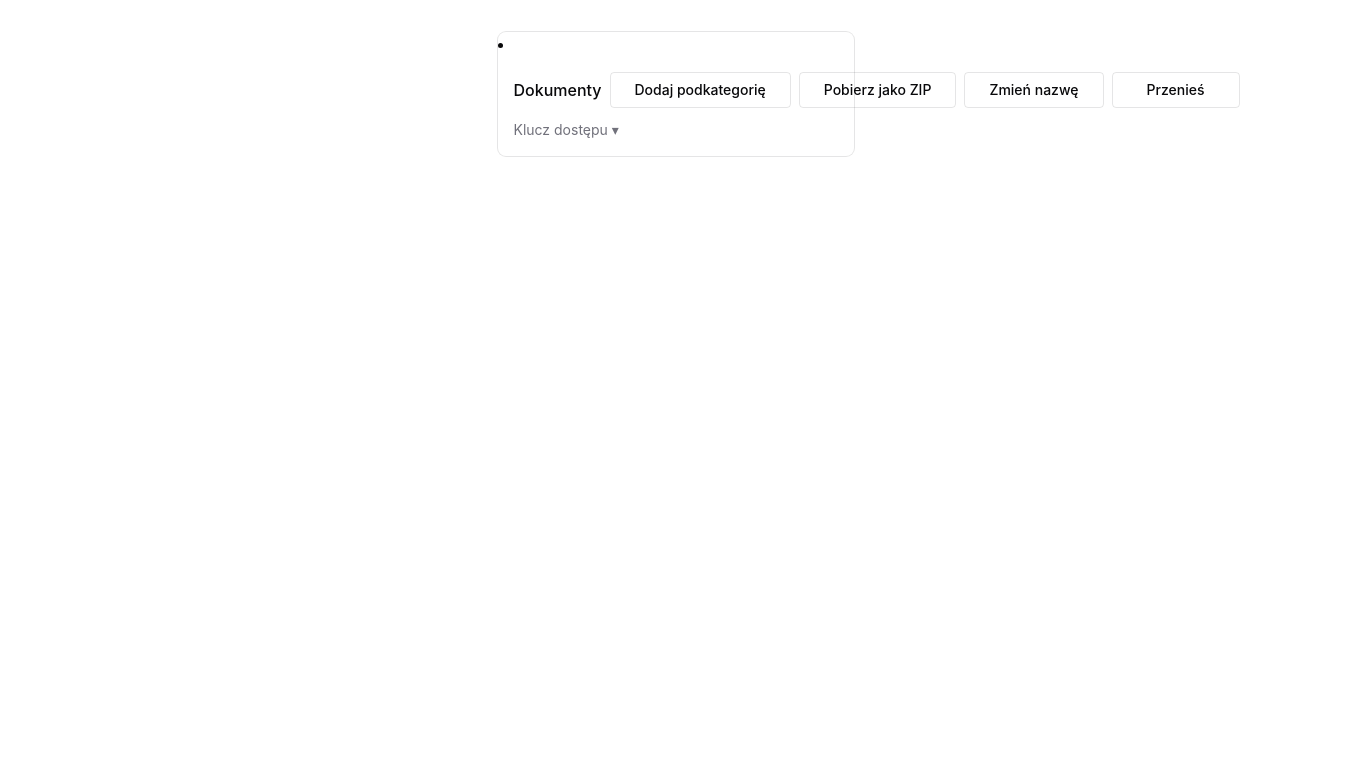
it: CategoryRow › renames the category and closes the dialog on success
Click the button "Zmień nazwę" at (1034, 90), box [964, 72, 1104, 108]
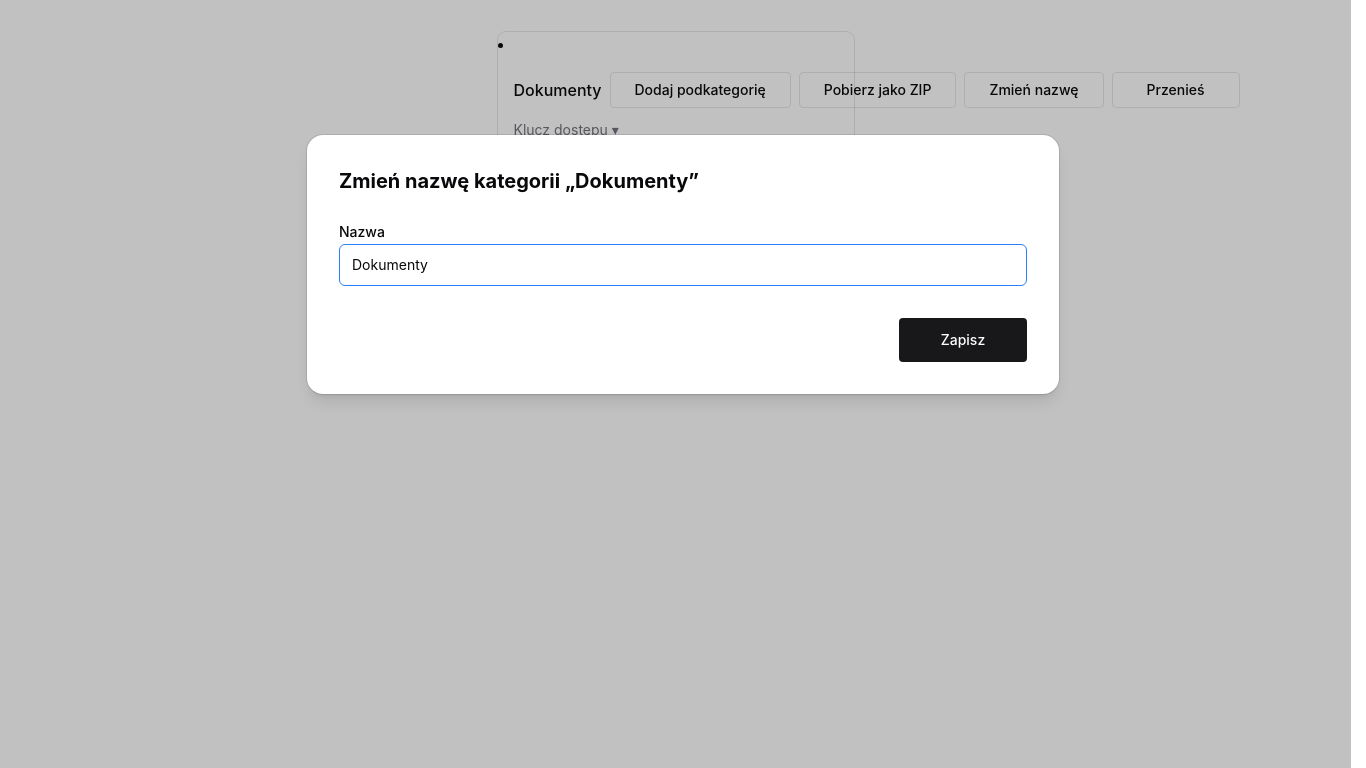
Replace the text in the field labelled "Nazwa" with "Dokumenty ważne" at (683, 265), box [339, 244, 1027, 286]
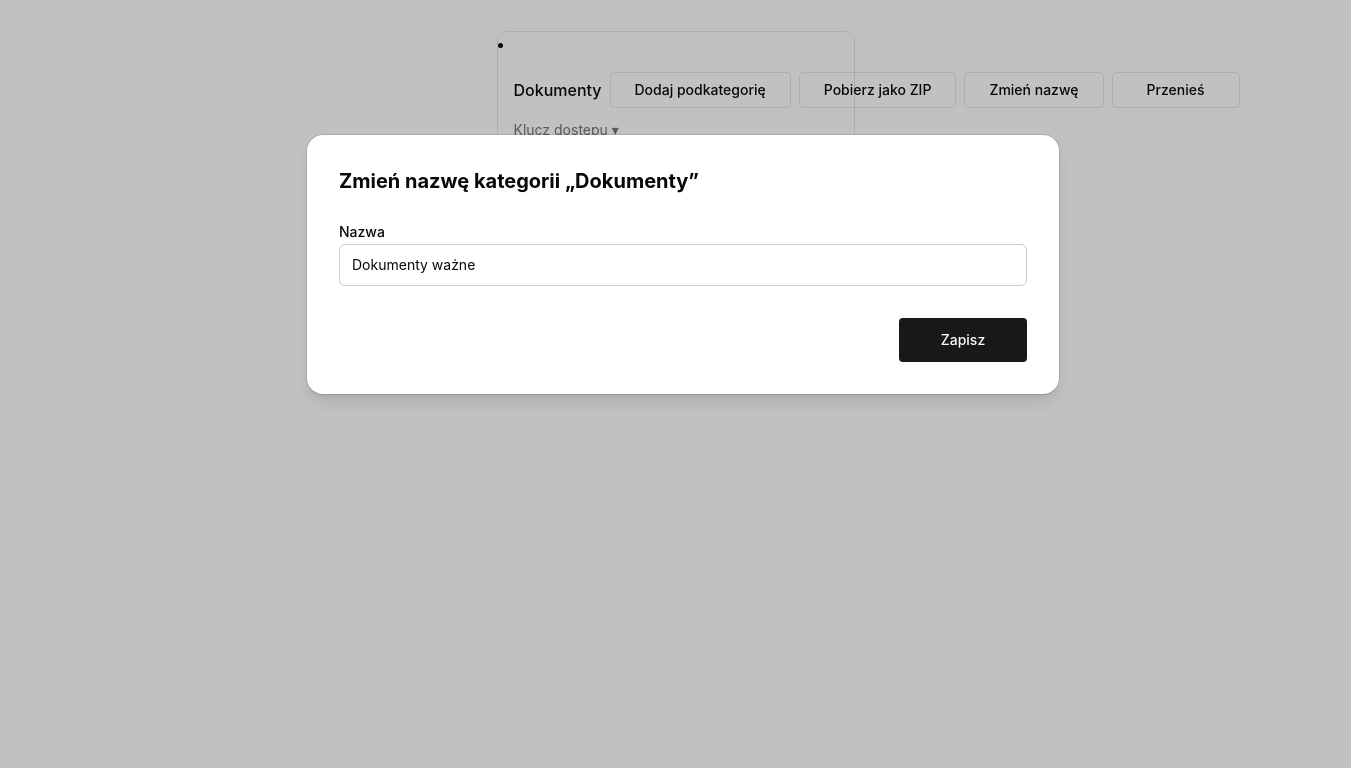
Click the button "Zapisz" at (963, 340), box [899, 318, 1027, 362]
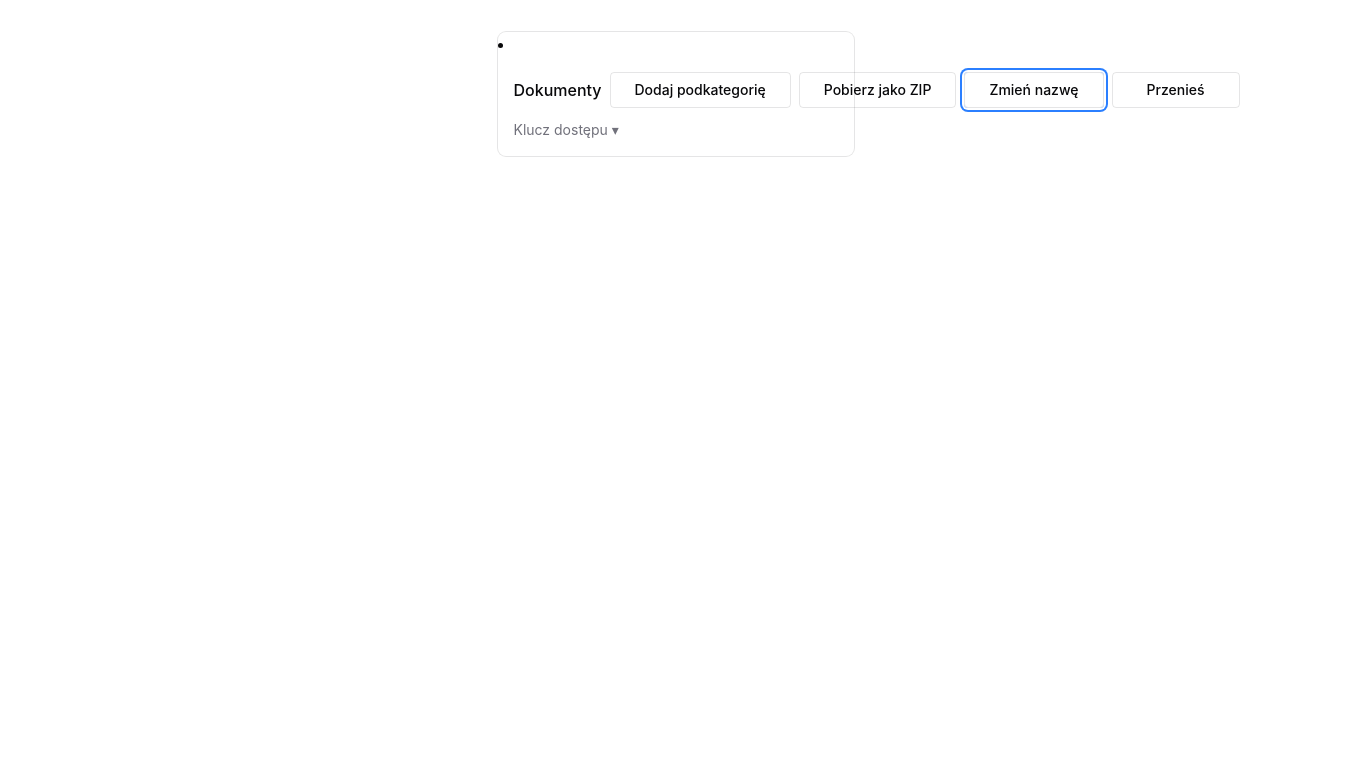
Expected: the label labelled "Nazwa" is gone
